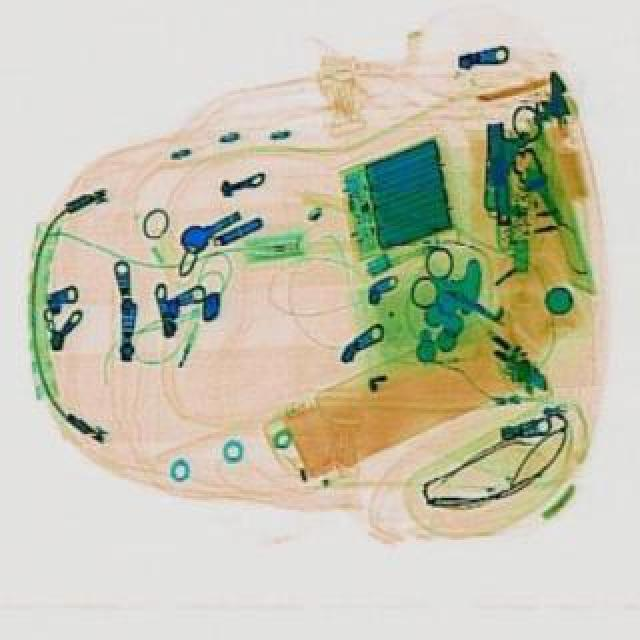pliers: (396, 240, 524, 348)
